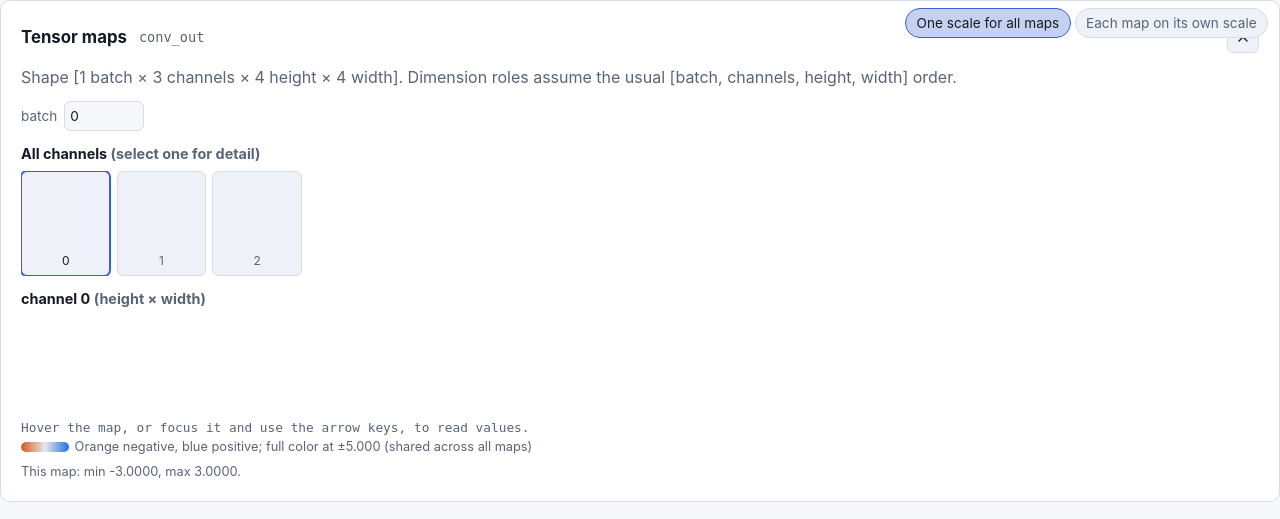
Scenario: Feature maps › can show each map on its own scale so weak channels stay visible
Check: the element named "Map legend" shows "±5.000 (shared across all maps)", box [75, 439, 532, 454]
Click the button "Each map on its own scale" at [1171, 23], box [1075, 8, 1268, 38]
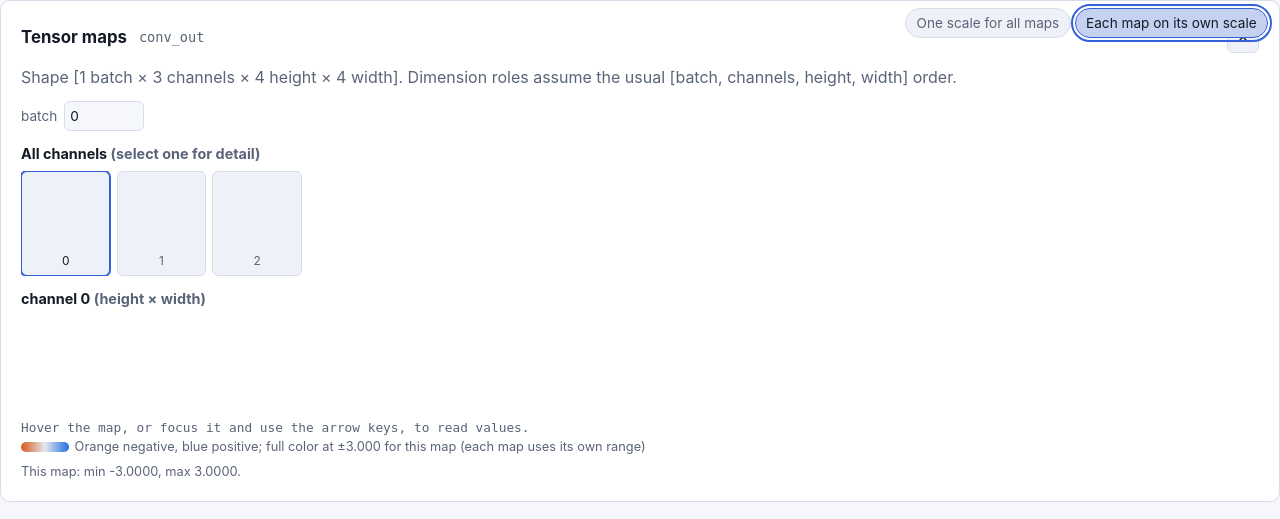
Check: the element named "Map legend" shows "±3.000 for this map (each map uses its own range)", box [75, 439, 646, 454]
